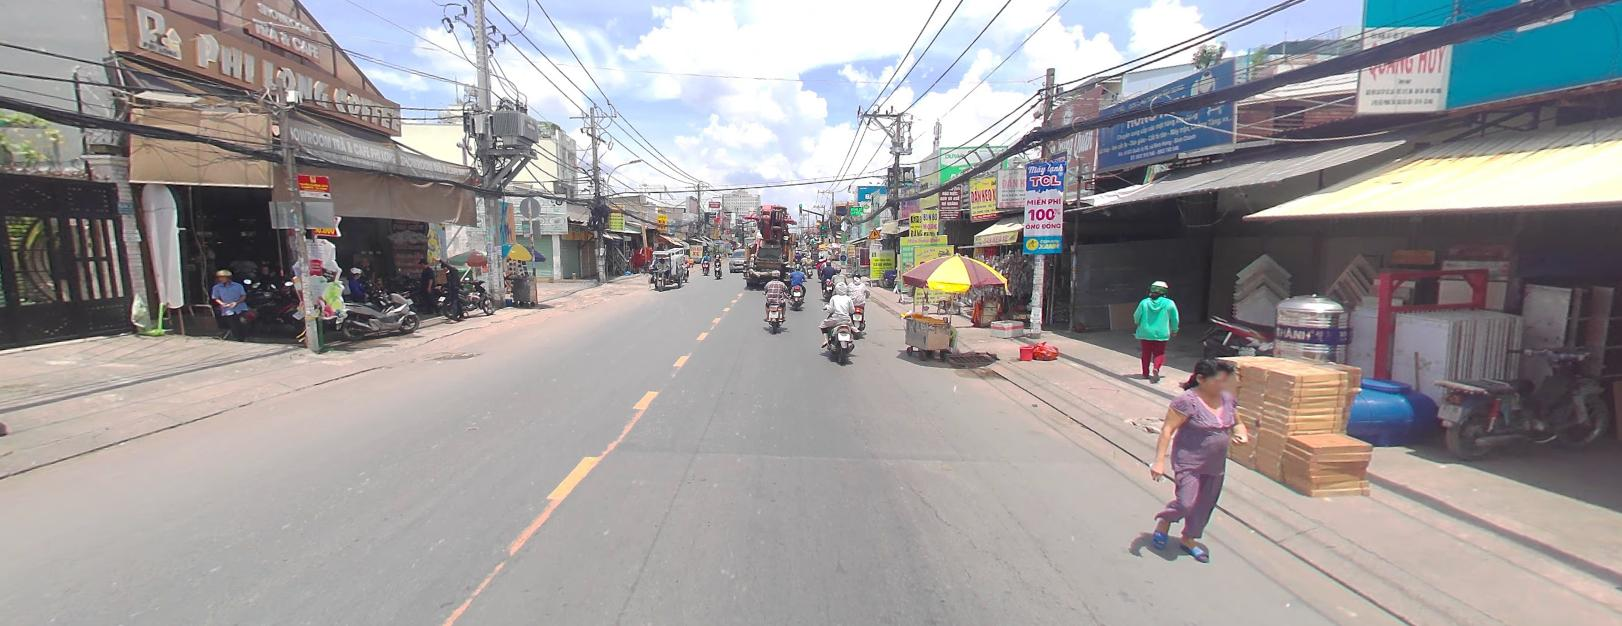Nguy hiem: (867, 225, 881, 237)
